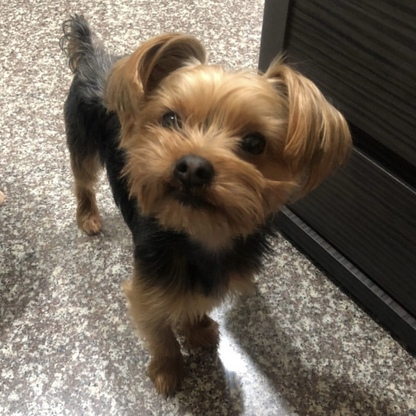yorkshire: (56, 12, 353, 400)
